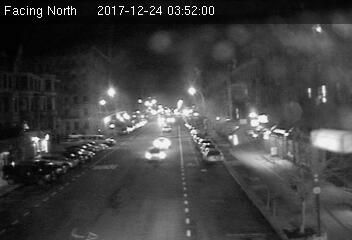car: (142, 145, 166, 164), (151, 137, 172, 151), (203, 149, 223, 163)
